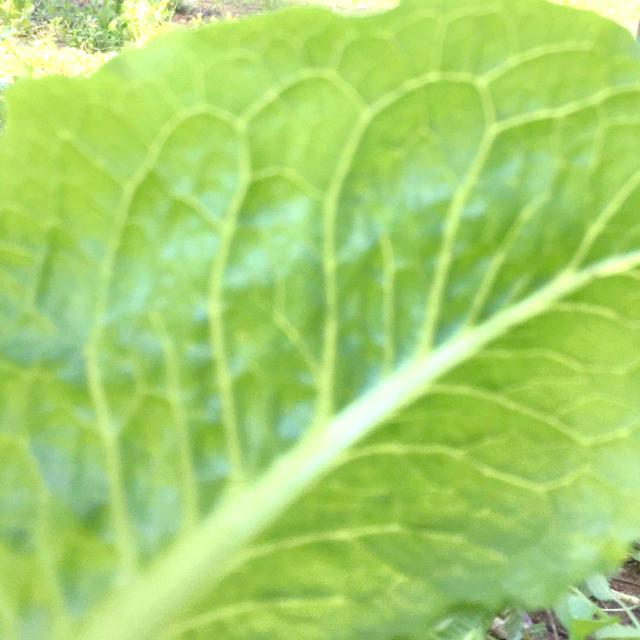Healthy Lettuce: (3, 3, 636, 635)
